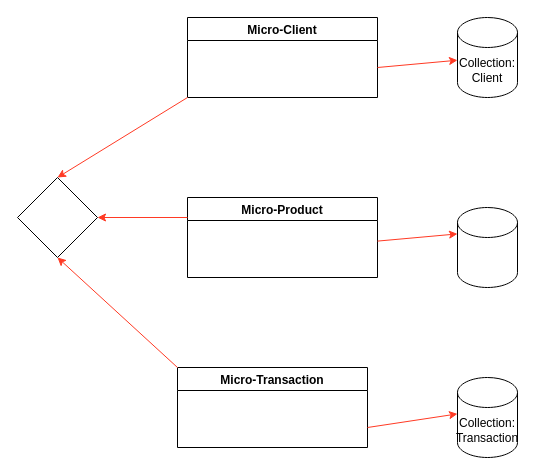
This 536x475 diagram has some shape labels left out. Each missing label, with the box of its shape:
Collection: Product: (456, 206, 518, 288)
ConfigServer: (16, 176, 98, 258)
